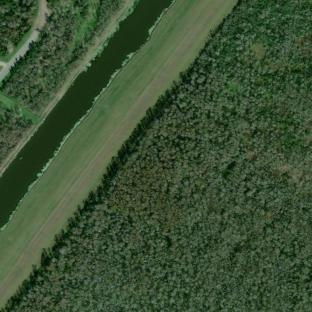Floresta: (5, 0, 312, 312), (1, 0, 125, 114), (0, 0, 35, 57)
